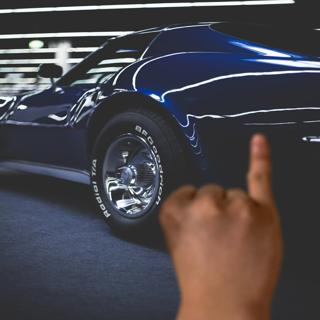FINE: (152, 128, 285, 309)
